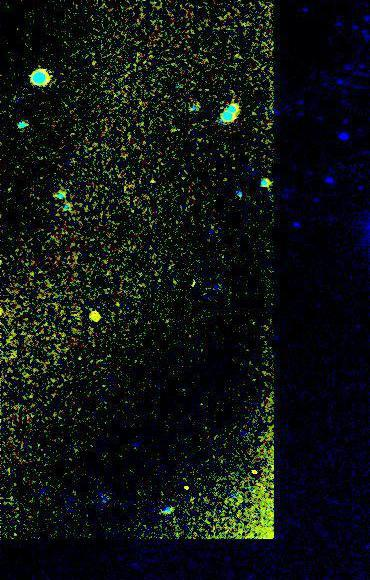star: (78, 301, 108, 331)
